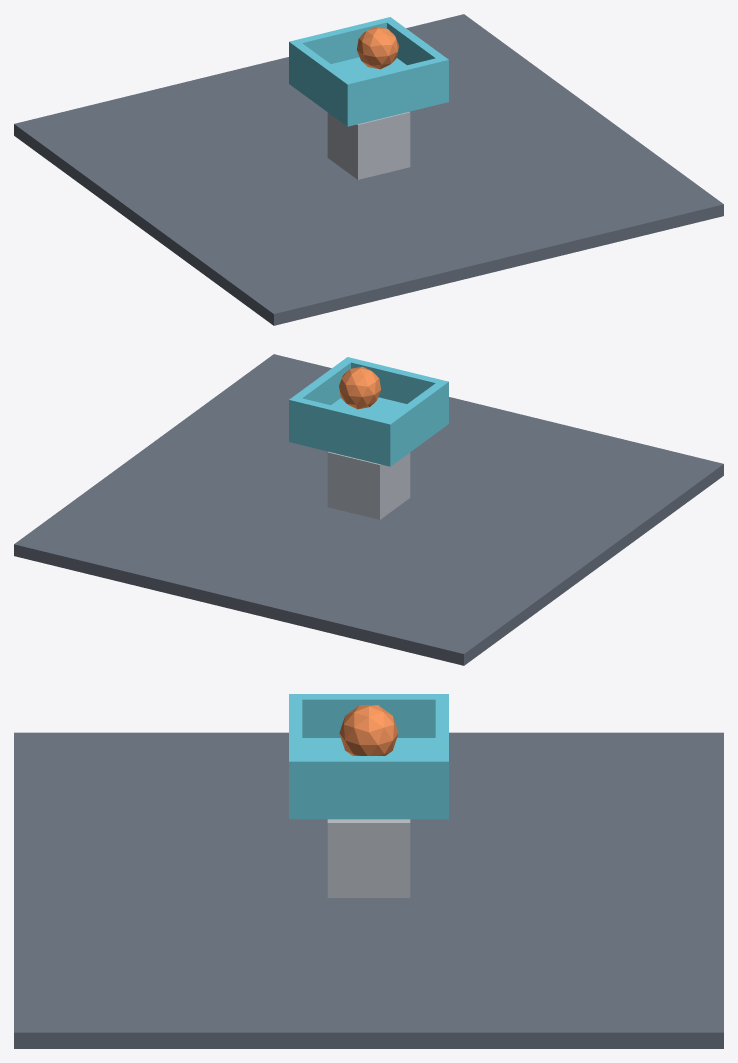
Rendered from generic_tray.glb.
3 views of the same model, one above another, from view 1: azimuth 30°, elevation 25°; view 2: azimuth 150°, elevation 25°; view 3: azimuth 270°, elevation 25° (orthographic). The views are drawn at different scales.
Parts seen in each view (by area): view 1: Ground.001, GenericBlockB.001, GenericBlockA.001, GenericSphere.001; view 2: Ground.001, GenericBlockB.001, GenericBlockA.001, GenericSphere.001; view 3: Ground.001, GenericBlockB.001, GenericBlockA.001, GenericSphere.001.
Boxes of the visible parts, x1=… form: Ground.001: x1=14, y1=14, x2=723, y2=325; GenericBlockB.001: x1=289, y1=17, x2=448, y2=126; GenericBlockA.001: x1=327, y1=111, x2=410, y2=179; GenericSphere.001: x1=357, y1=26, x2=398, y2=69; Ground.001: x1=14, y1=354, x2=723, y2=665; GenericBlockB.001: x1=289, y1=357, x2=448, y2=466; GenericBlockA.001: x1=327, y1=451, x2=410, y2=519; GenericSphere.001: x1=339, y1=366, x2=380, y2=409; Ground.001: x1=14, y1=732, x2=723, y2=1048; GenericBlockB.001: x1=289, y1=694, x2=448, y2=819; GenericBlockA.001: x1=327, y1=819, x2=410, y2=897; GenericSphere.001: x1=339, y1=705, x2=398, y2=755.
Size of the model in its own units: 12 by 3.7 by 12.
